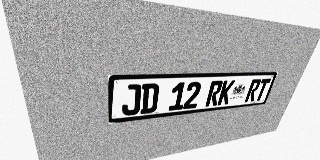1: (168, 82, 188, 111)
2: (183, 81, 202, 109)
D: (140, 83, 160, 114)
J: (122, 84, 142, 116)
K: (217, 80, 235, 105)
R: (205, 80, 224, 107), (244, 79, 262, 102)
T: (254, 78, 271, 101)
